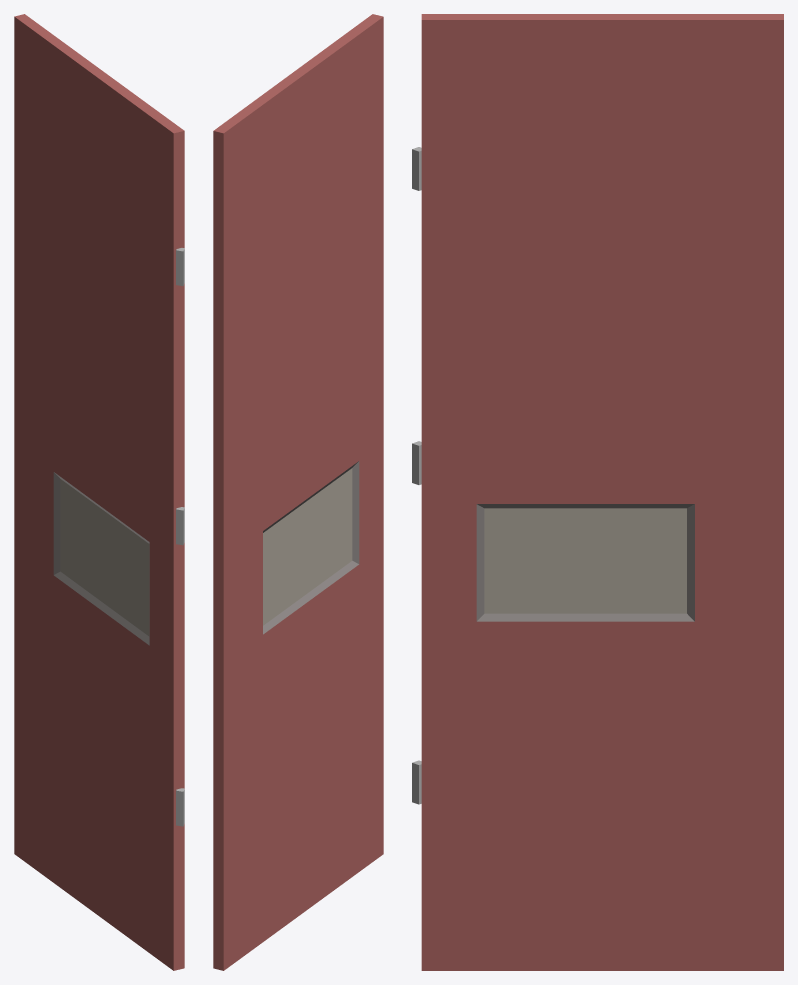
Rendered from SM_Door_B1.fbx.
The picture shows the model from 3 angles, left to right: view 1: azimuth 30°, elevation 25°; view 2: azimuth 150°, elevation 25°; view 3: azimuth 270°, elevation 25°; orthographic projection. The views are drawn at different scales.
Parts seen in each view (by area): view 1: SM_Door_B1; view 2: SM_Door_B1; view 3: SM_Door_B1.
Part boxes in pixels (x1,y1,x2,y2): SM_Door_B1: [14, 14, 184, 970]; SM_Door_B1: [213, 14, 383, 970]; SM_Door_B1: [412, 14, 783, 970].
Size of the model in its own units: 5.83 by 429 by 152.
